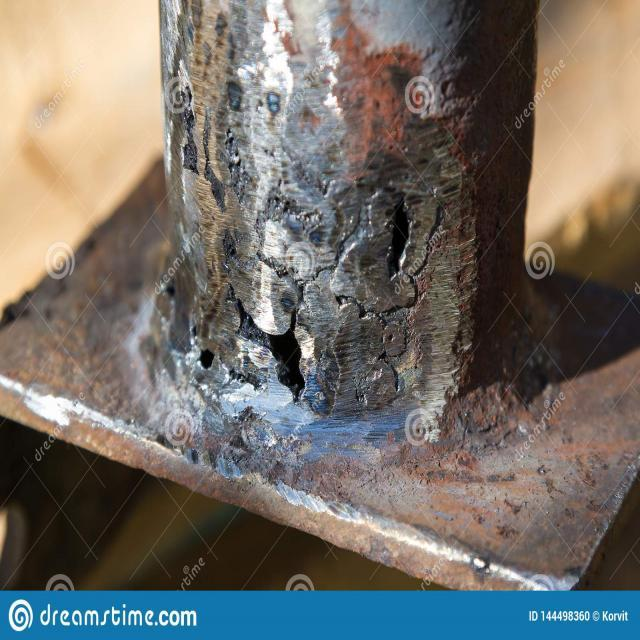Bad Weld: (149, 88, 512, 446)
Defect: (234, 300, 318, 402), (194, 340, 226, 388)
